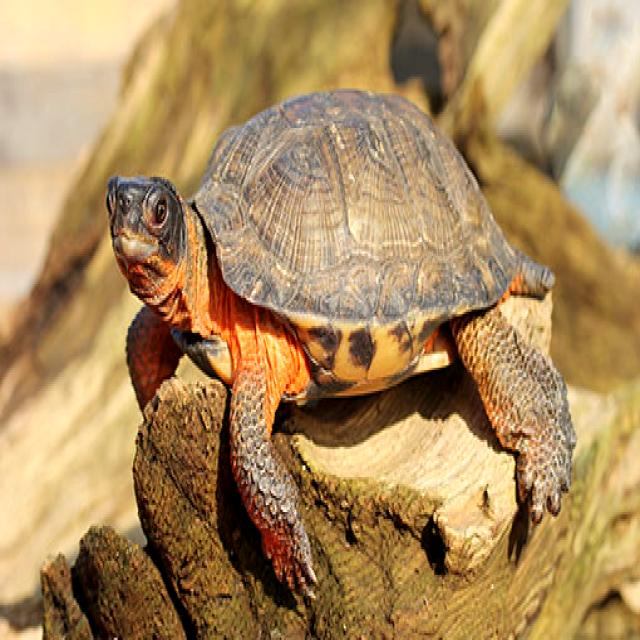Sea turtle: (89, 104, 605, 584)
